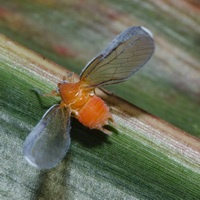insect: (23, 26, 154, 168)
